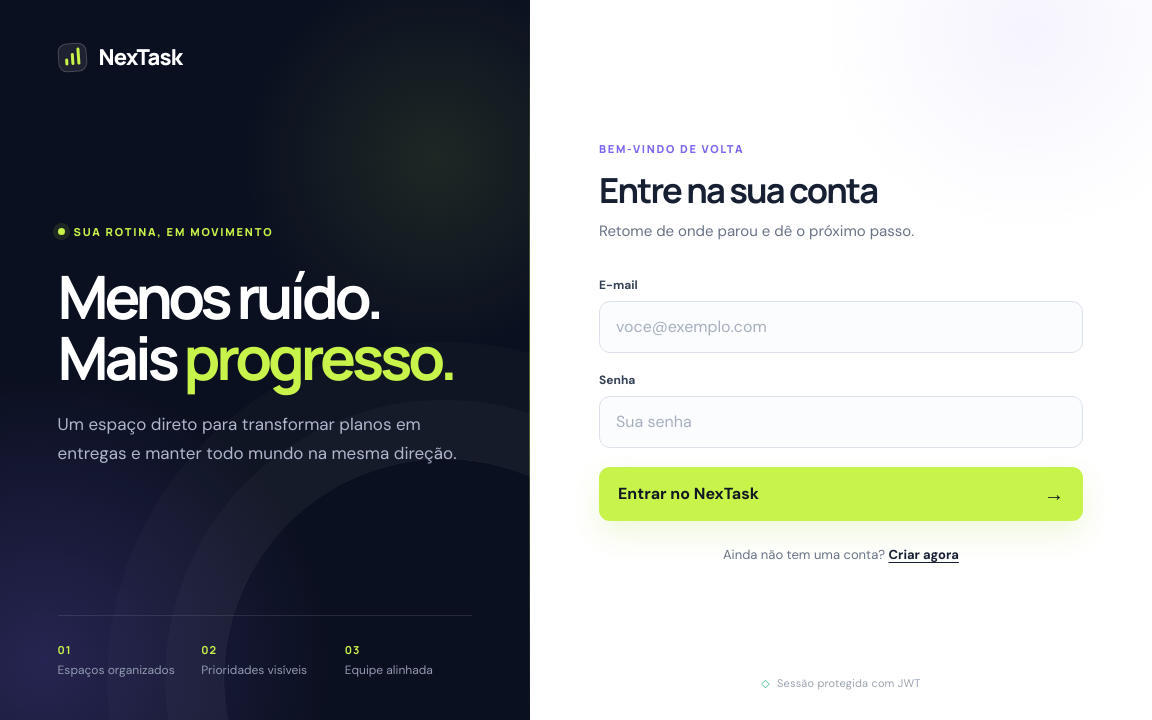
Scenario: NexTask frontend › logs in through the API and opens workspace onboarding
Type "ana@example.com" into the field labelled "E-mail". click: [841, 327]
box: [599,301,1083,353]
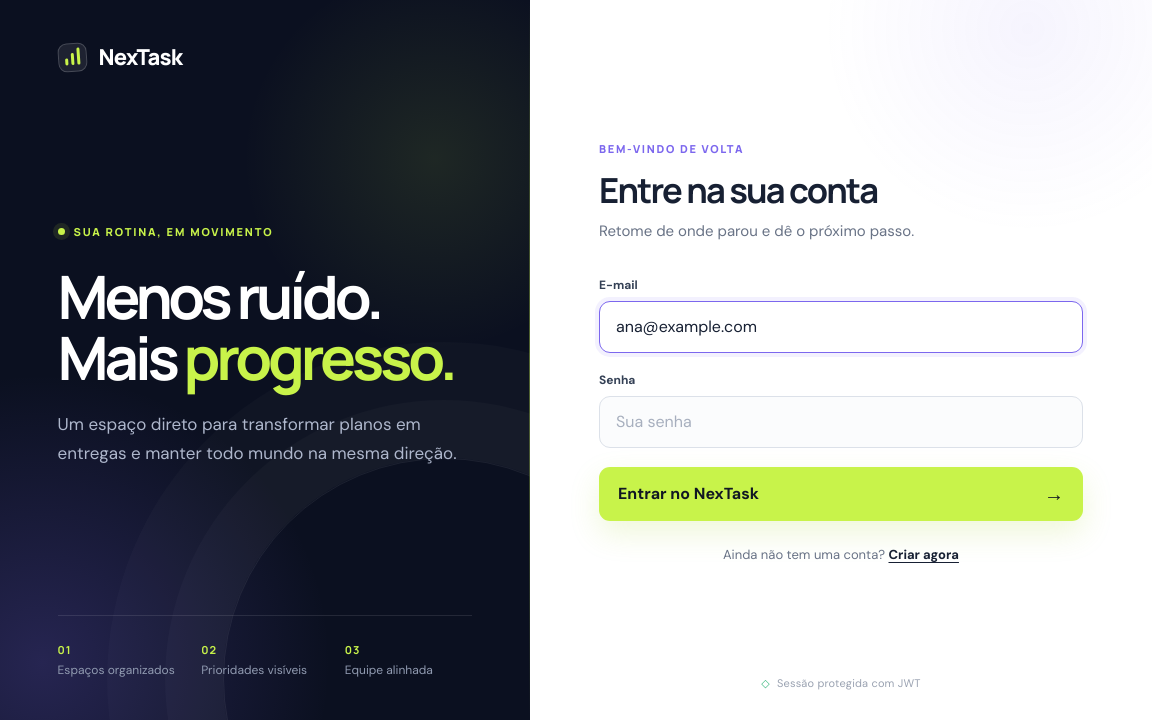
Type "password123" into the password field labelled "Senha". click: [841, 422]
box: [599,396,1083,448]
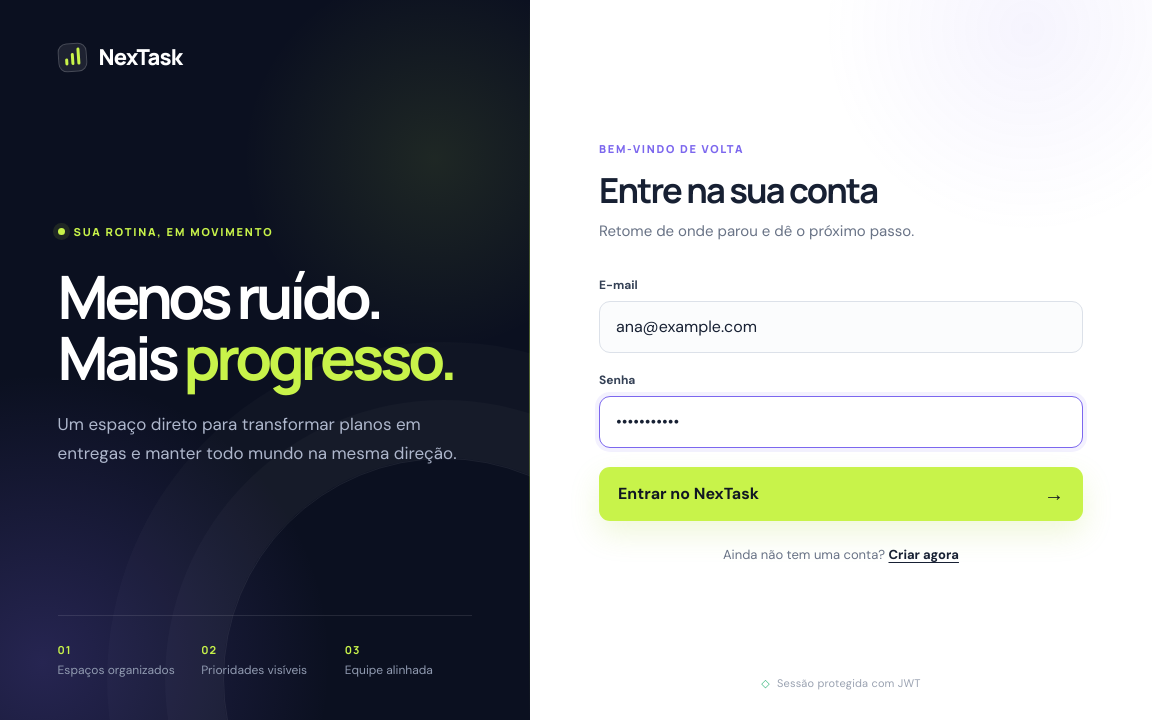
Click the button "Entrar no NexTask →". click: [688, 494]
box: [599,467,1083,521]
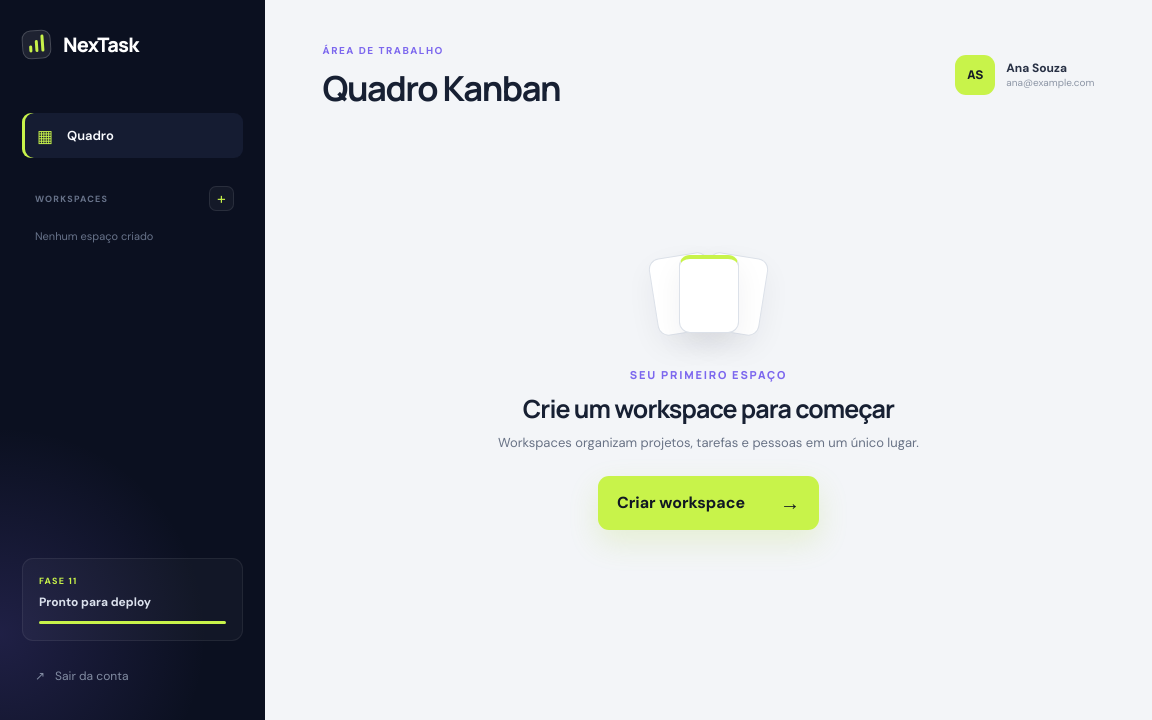
Expected: the heading "Crie um workspace para começar" is shown, [523,391,894,426]
Expected: the text "Ana Souza" is shown, [1006,60,1067,76]
